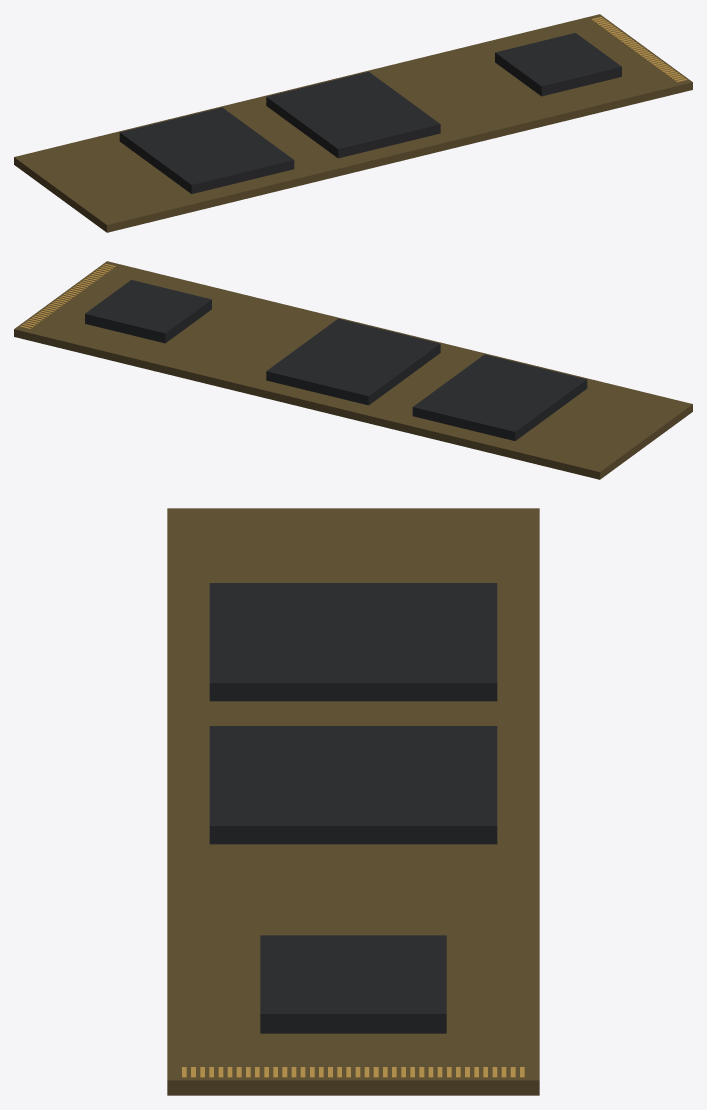
File: L129_SERVICE_NVME.fbx
3 views of the same model, one above another, from view 1: azimuth 30°, elevation 25°; view 2: azimuth 150°, elevation 25°; view 3: azimuth 270°, elevation 25° (orthographic). The views are drawn at different scales.
Parts seen in each view (by area): view 1: SERVICE_NVME__FR4, SERVICE_NVME__Chip, SERVICE_NVME__Gold; view 2: SERVICE_NVME__FR4, SERVICE_NVME__Chip, SERVICE_NVME__Gold; view 3: SERVICE_NVME__FR4, SERVICE_NVME__Chip, SERVICE_NVME__Gold.
Part boxes in pixels (x1,y1,x2,y2): SERVICE_NVME__FR4: (14,14,692,232); SERVICE_NVME__Chip: (119,33,621,193); SERVICE_NVME__Gold: (591,17,686,82); SERVICE_NVME__FR4: (14,261,692,479); SERVICE_NVME__Chip: (85,280,587,440); SERVICE_NVME__Gold: (20,263,115,329); SERVICE_NVME__FR4: (167,508,539,1095); SERVICE_NVME__Chip: (209,583,497,1033); SERVICE_NVME__Gold: (182,1067,524,1077).
Size of the model in its own units: 80 by 2.3 by 22.
